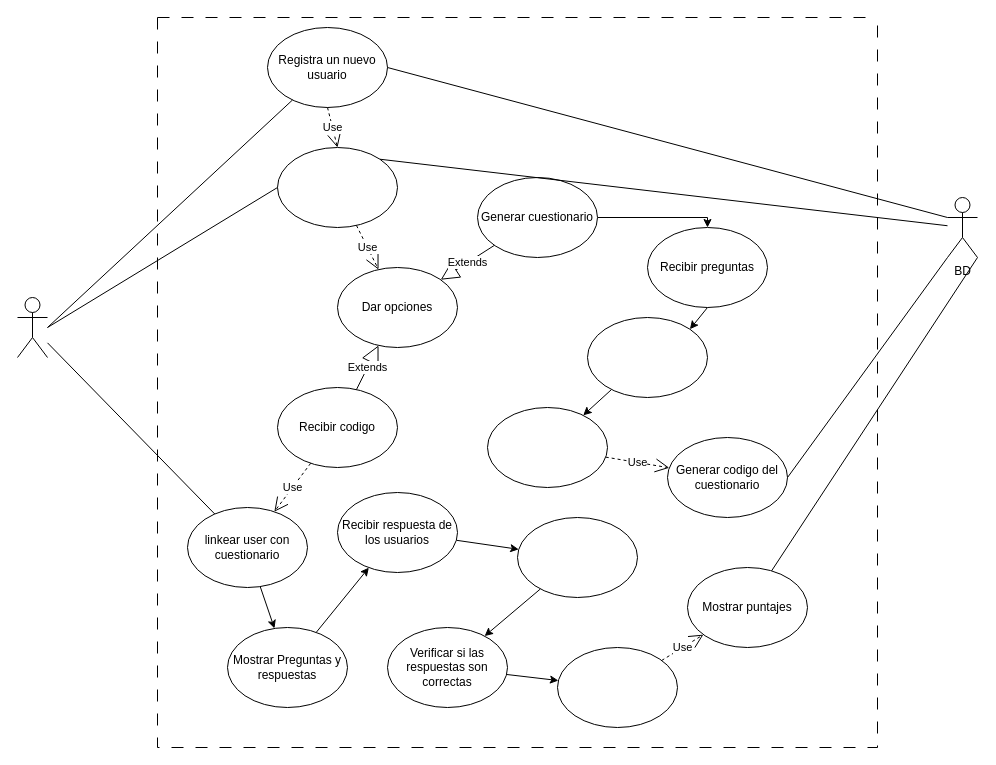
Some shapes in this 996 by 765 pixel diagram are drawn without their labels. The centre of each missing label's shape, as x and y in pixels:
"Asignar puntaje" goes at (617,687).
"Documentar formato de la respuesta" goes at (647,357).
"Establecer Respuesta correcta" goes at (547,447).
"Loguear usuario" goes at (337,187).
"Registrar el tiempo de respuesta" goes at (577,557).
"User" goes at (32,327).
